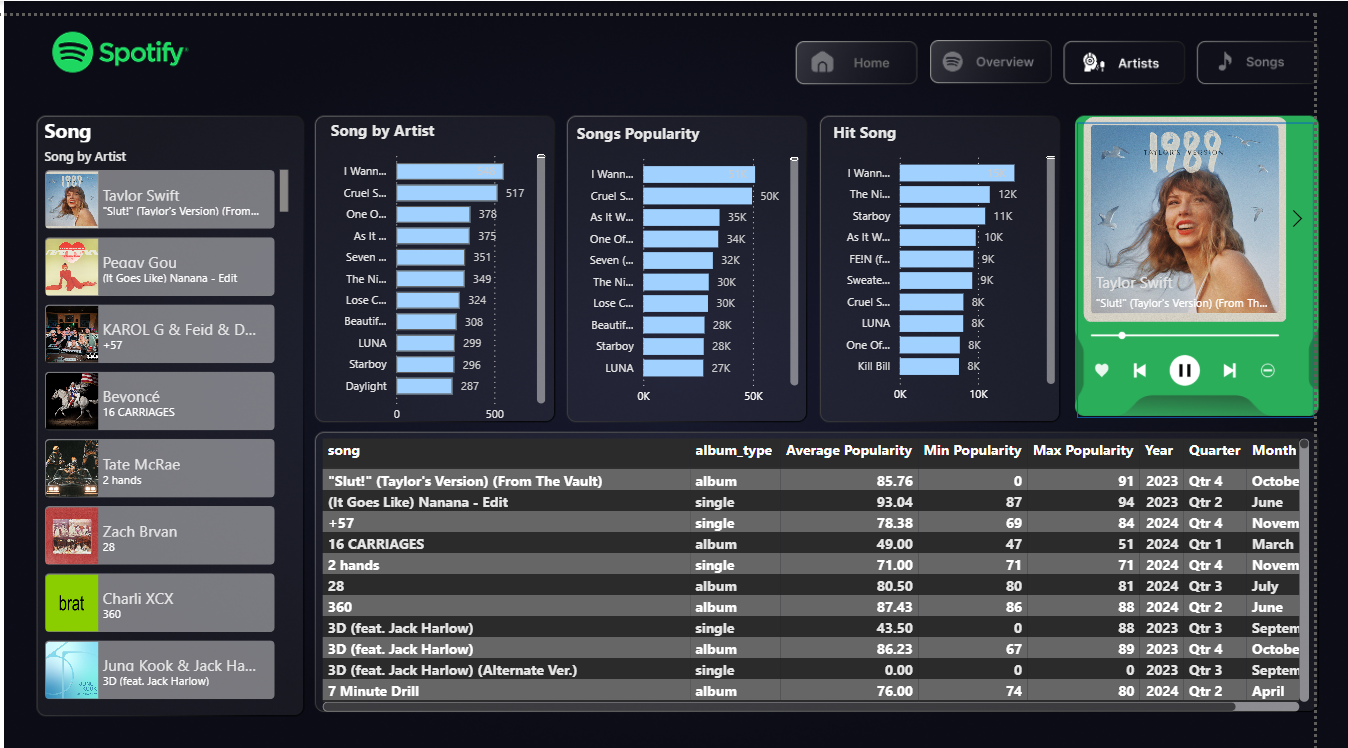

The dashboard page shown, as its layout file describes it:
{"tool":"powerbi","page":{"name":"Song ","canvas":[1280,720],"ordinal":3},"visuals":[{"type":"actionButton","box":[905.5,39.4,115.1,40.9],"z":0},{"type":"shape","box":[558.7,121.1,230.2,298.3],"z":0,"group":"g7"},{"type":"clusteredBarChart","title":"Song by Artist","fields":{"Category":["Top-50-world.song"],"Y":["CountNonNull(Top-50-world.artist)"]},"box":[315,127.4,228.6,298.3],"z":0,"group":"g6"},{"type":"group","id":"g1","title":"Group 2","box":[315,130.7,242.3,266.5],"z":0,"group":"g3"},{"type":"clusteredBarChart","title":"Hit Song","fields":{"Category":["Top-50-world.song"],"Y":["Sum(Top-50-world.position)"]},"box":[816.1,133.3,221.1,277.1],"z":0,"group":"g8"},{"type":"actionButton","box":[1034.2,48.5,115.1,40.9],"z":1},{"type":"actionButton","box":[1161.4,48.5,113.6,40.9],"z":2},{"type":"actionButton","box":[128.3,428.3,116.7,40],"z":3},{"type":"actionButton","box":[776.8,50,115.1,39.4],"z":4},{"type":"shape","box":[1041.4,90,238.6,300],"z":5},{"type":"group","id":"g2","title":"Group 1","box":[1034.2,122.7,245.3,337.7],"z":6},{"type":"advancedSlicerVisual","title":"Song","fields":{"Values":["Top-50-world.song"],"Label":["Min(Top-50-world.artist)"]},"box":[51.5,134.8,242.3,563.3],"z":7},{"type":"group","id":"g3","title":"Group 3","box":[315,130.7,242.3,266.5],"z":8},{"type":"tableEx","fields":{"Values":["Top-50-world.song","Top-50-world.album_type","Top-50-world.Average Popularity","Top-50-world.Min Popularity","Top-50-world.Max Popularity","Top-50-world.release_date.Variation.Date Hierarchy.Year","Top-50-world.release_date.Variation.Date Hierarchy.Quarter","Top-50-world.release_date.Variation.Date Hierarchy.Month","Top-50-world.release_date.Variation.Date Hierarchy.Day"]},"box":[313.4,428.5,949.4,269.5],"z":11},{"type":"group","id":"g4","title":"Group 2","box":[365.4,397.2,242.3,266.5],"z":12},{"type":"group","id":"g5","title":"Group 2","box":[612.2,390.7,228.6,304.4],"z":13},{"type":"group","id":"g6","title":"Group 3","box":[315,78.7,334.6,346.8],"z":14},{"type":"group","id":"g7","title":"Group 4","box":[558.7,121.1,230.2,298.3],"z":15},{"type":"group","id":"g8","title":"Group 5","box":[811.6,124.2,230.2,298.3],"z":16},{"type":"shape","box":[420.1,78.7,230.2,298.3],"z":1000,"group":"g6"},{"type":"shape","box":[811.6,124.2,230.2,298.3],"z":1000,"group":"g8"},{"type":"clusteredBarChart","title":"Songs Popularity","fields":{"Category":["Top-50-world.song"],"Y":["Sum(Top-50-world.popularity)"]},"box":[565.1,128.5,221.1,277.1],"z":1000,"group":"g7"},{"type":"advancedSlicerVisual","title":"Song","fields":{"Values":["Top-50-world.song"],"Label":["Min(Top-50-world.artist)"]},"box":[1034.2,122.7,245.3,207.4],"z":7000,"group":"g2"},{"type":"image","box":[1034.2,259,245.3,201.4],"z":8000,"group":"g2"},{"type":"shape","box":[1053.9,134.8,225.6,281.6],"z":9000,"group":"g2"},{"type":"shape","box":[315,130.7,242.3,266.5],"z":25002,"group":"g1"},{"type":"shape","box":[612.2,390.7,228.6,304.4],"z":25002,"group":"g5"},{"type":"shape","box":[365.4,397.2,242.3,266.5],"z":25002,"group":"g4"}]}

Visuals, with their boxes in screenshot pixels (x1, y1, x2, y2), scaled from the page's 1280x720 canvas onto the 1348x748 screenshot:
actionButton: locate(954, 41, 1075, 83)
shape: locate(588, 126, 831, 436)
"Song by Artist" clusteredBarChart: locate(332, 132, 572, 442)
"Group 2" group: locate(332, 136, 587, 413)
"Hit Song" clusteredBarChart: locate(859, 138, 1092, 426)
actionButton: locate(1089, 50, 1210, 93)
actionButton: locate(1223, 50, 1343, 93)
actionButton: locate(135, 445, 258, 487)
actionButton: locate(818, 52, 939, 93)
shape: locate(1097, 94, 1347, 405)
"Group 1" group: locate(1089, 127, 1347, 478)
"Song" advancedSlicerVisual: locate(54, 140, 309, 725)
"Group 3" group: locate(332, 136, 587, 413)
tableEx - Top-50-world.song x Top-50-world.album_type: locate(330, 445, 1330, 725)
"Group 2" group: locate(385, 413, 640, 690)
"Group 2" group: locate(645, 406, 885, 722)
"Group 3" group: locate(332, 82, 684, 442)
"Group 4" group: locate(588, 126, 831, 436)
"Group 5" group: locate(855, 129, 1097, 439)
shape: locate(442, 82, 685, 392)
shape: locate(855, 129, 1097, 439)
"Songs Popularity" clusteredBarChart: locate(595, 133, 828, 421)
"Song" advancedSlicerVisual: locate(1089, 127, 1347, 343)
image: locate(1089, 269, 1347, 478)
shape: locate(1110, 140, 1347, 433)
shape: locate(332, 136, 587, 413)
shape: locate(645, 406, 885, 722)
shape: locate(385, 413, 640, 690)
